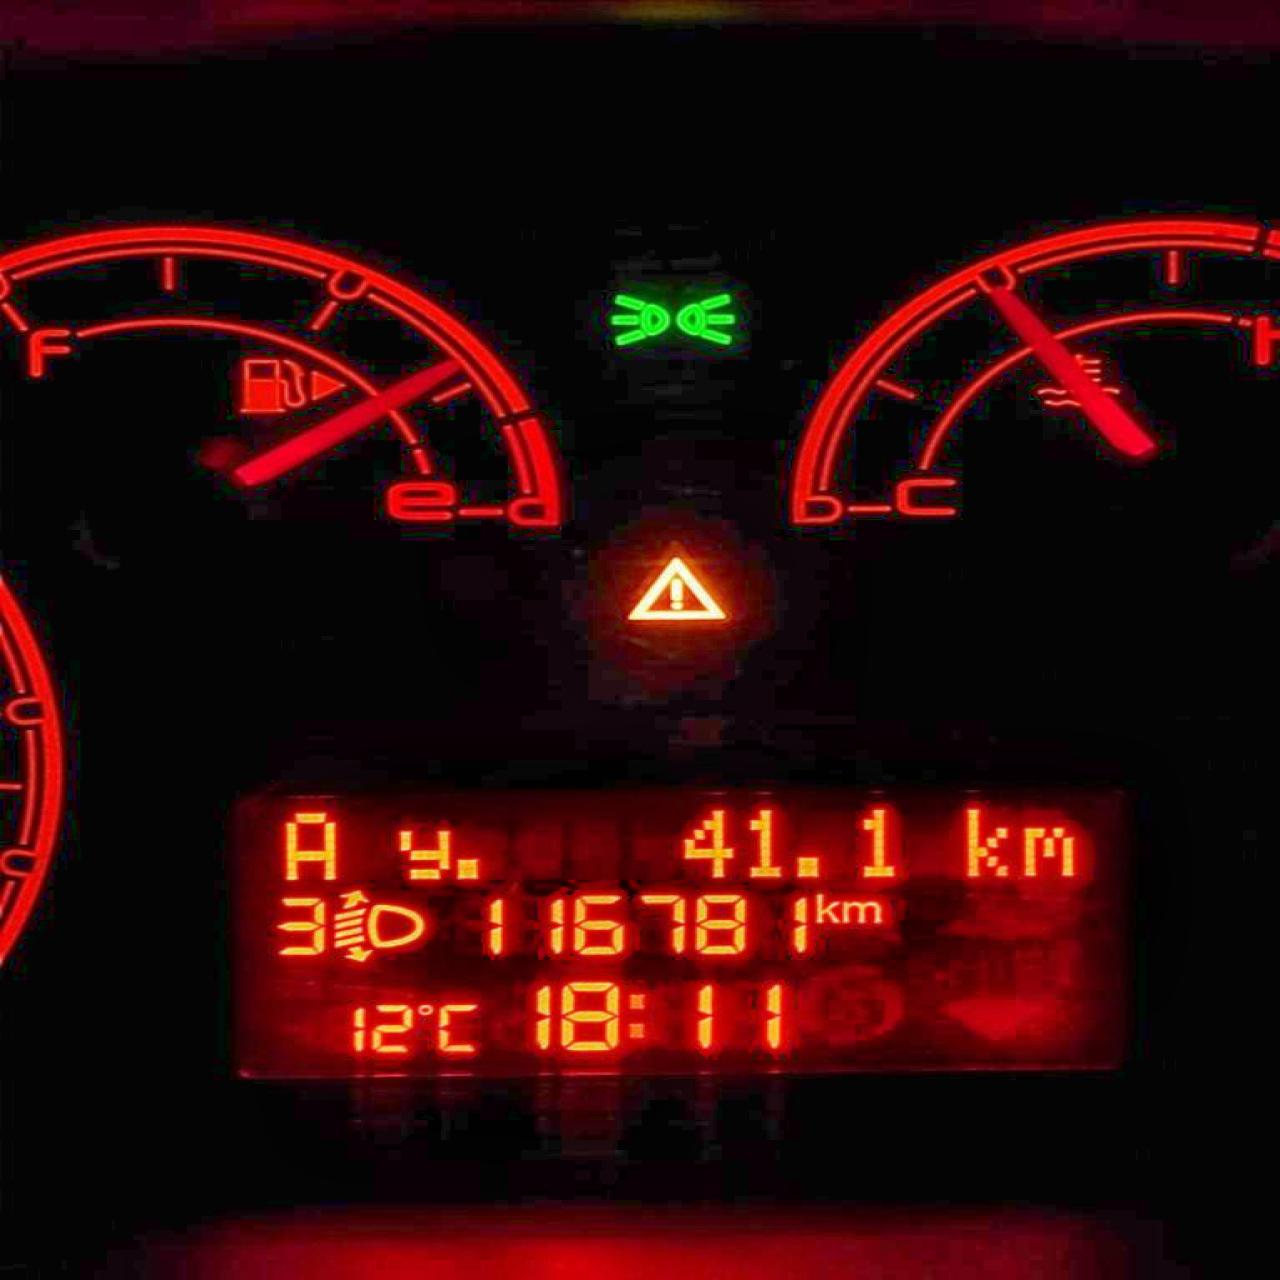-: (791, 850, 822, 879), (451, 853, 481, 881)
1: (852, 803, 900, 878), (742, 802, 785, 880), (754, 978, 790, 1051), (687, 979, 722, 1050), (476, 892, 513, 953), (522, 981, 551, 1050), (538, 896, 568, 956), (782, 891, 810, 951), (341, 1002, 368, 1054)
2: (369, 1001, 411, 1055)
3: (268, 890, 329, 958)
4: (672, 805, 738, 880)
6: (571, 890, 629, 958)
7: (633, 890, 688, 955)
8: (554, 976, 621, 1054), (690, 890, 750, 956)
X: (279, 808, 339, 881), (958, 802, 1014, 879), (388, 823, 452, 883), (1017, 823, 1076, 878), (433, 1000, 479, 1054), (624, 989, 648, 1040), (812, 886, 840, 924), (840, 899, 883, 924)
odometer: (224, 778, 1142, 1088)
